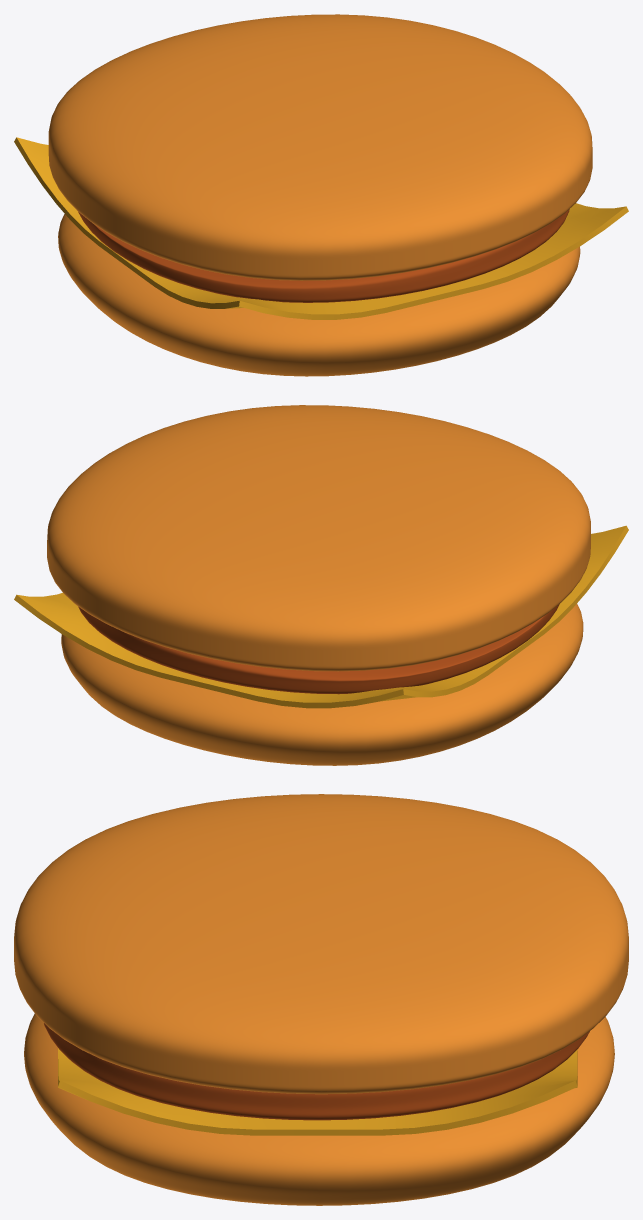
Rendered from hamburguer.glb.
The picture shows the model from 3 angles, top to bottom: view 1: azimuth 30°, elevation 25°; view 2: azimuth 150°, elevation 25°; view 3: azimuth 270°, elevation 25°; orthographic projection. The views are drawn at different scales.
Visible parts, largest first — view 1: Cube, Cube.002, Plane, Cube.001; view 2: Cube, Cube.002, Plane, Cube.001; view 3: Cube, Cube.002, Cube.001, Plane.
Part boxes in pixels (x1,y1,x2,y2): Cube: [48, 14, 592, 280]; Cube.002: [58, 214, 580, 376]; Plane: [14, 137, 628, 319]; Cube.001: [78, 209, 569, 302]; Cube: [47, 405, 590, 671]; Cube.002: [61, 604, 583, 765]; Plane: [14, 525, 628, 708]; Cube.001: [78, 604, 559, 694]; Cube: [14, 794, 628, 1094]; Cube.002: [24, 1013, 614, 1205]; Cube.001: [44, 1023, 589, 1120]; Plane: [58, 1048, 577, 1135].
Bounding box in the file's own units: 8.8 × 4.03 × 8.8.
